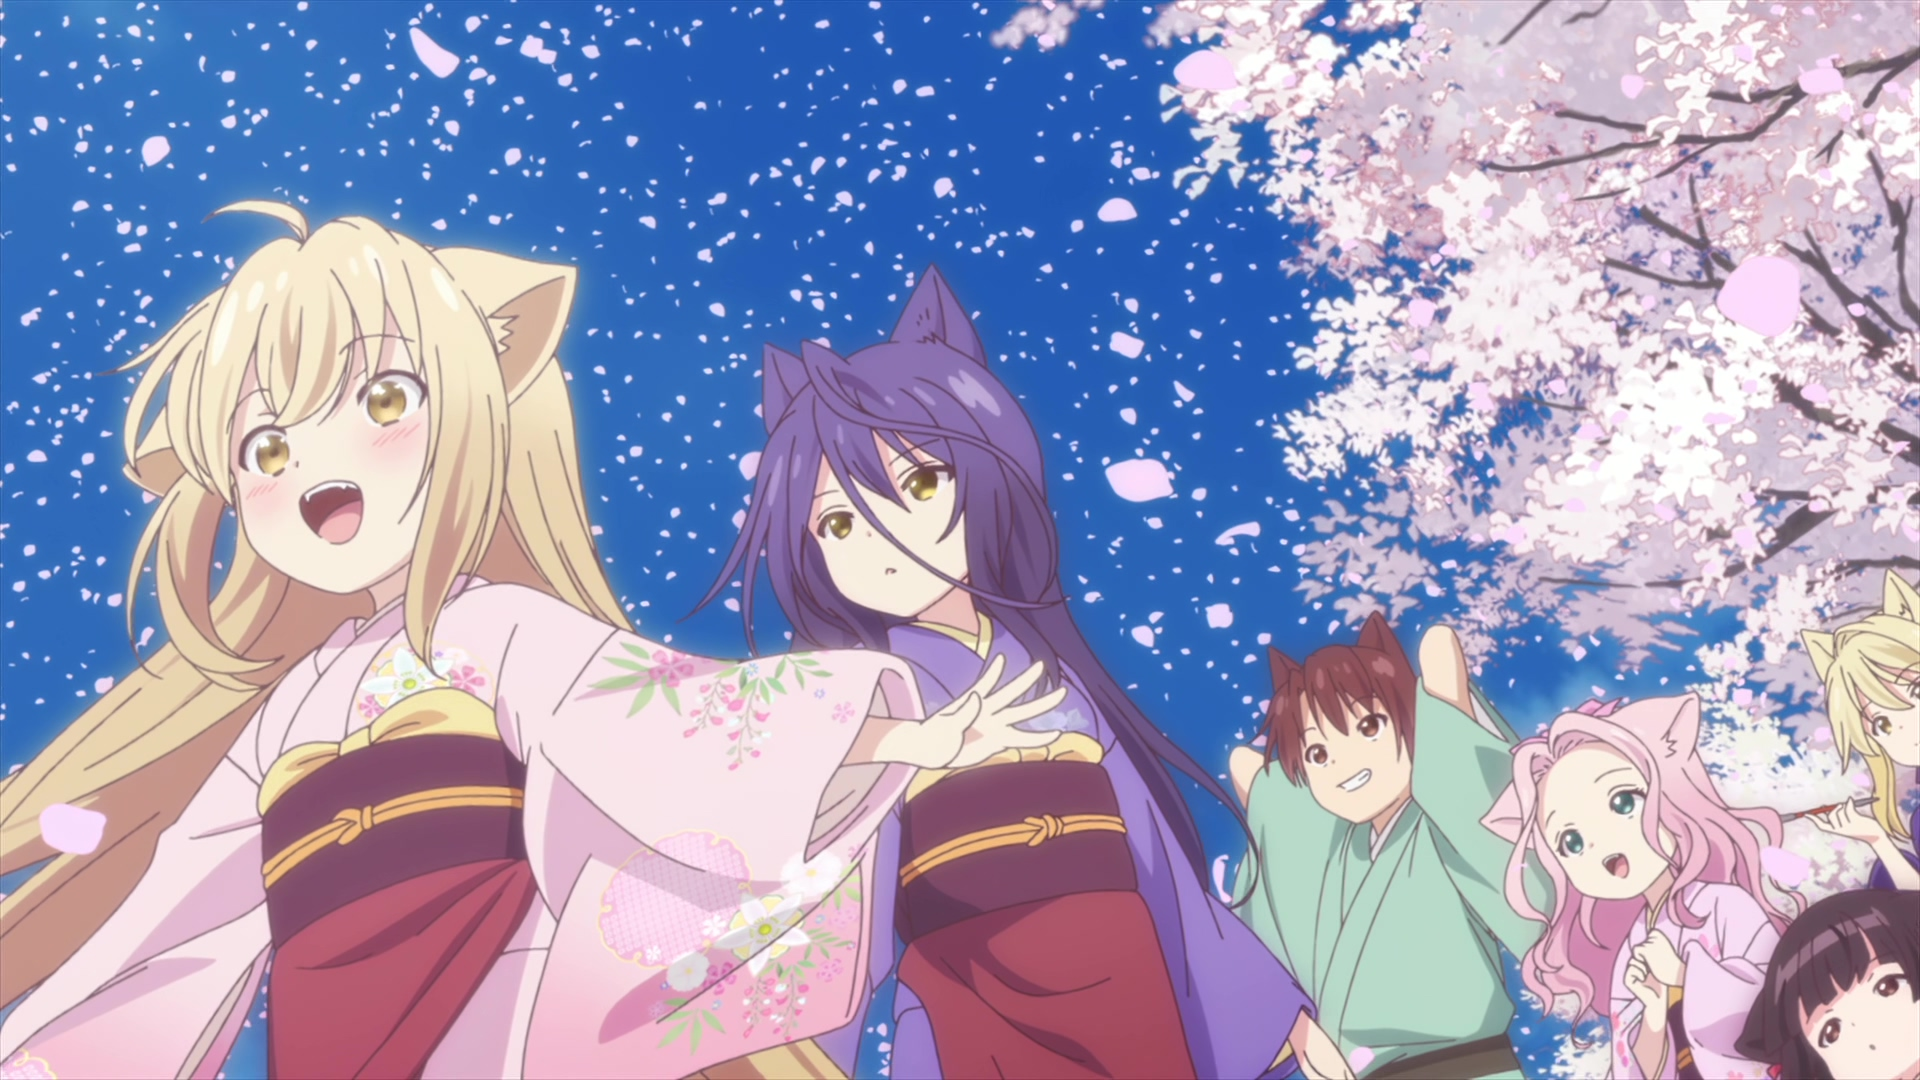枣: (1228, 616, 1557, 1080)
柚: (1, 198, 1067, 1080)
桐: (1797, 568, 1920, 885)
樱: (1734, 890, 1920, 1080)
皋: (680, 265, 1356, 1080)
莲: (1481, 694, 1811, 1080)
